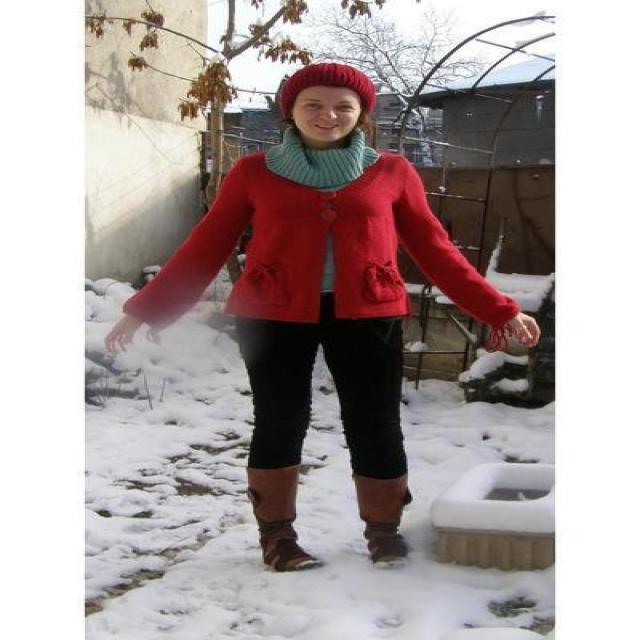hat: (266, 65, 396, 130)
jacket: (126, 152, 517, 328)
pants: (240, 317, 408, 488)
shoe: (242, 467, 411, 572)
